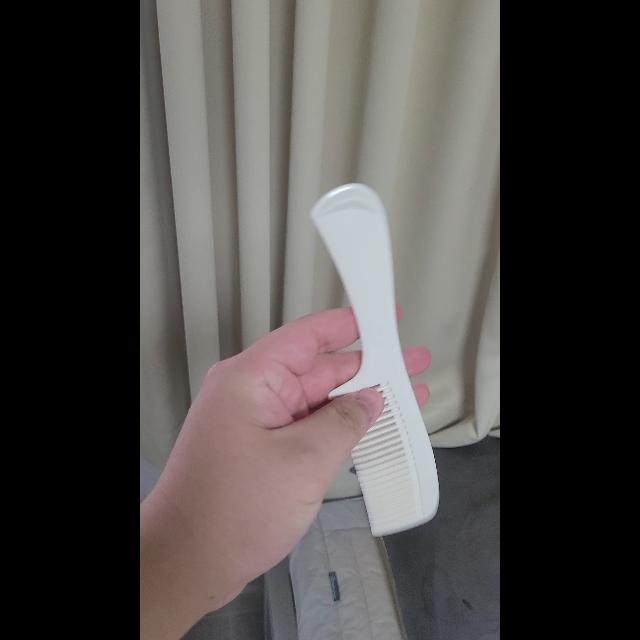COMB: (312, 185, 441, 538)
